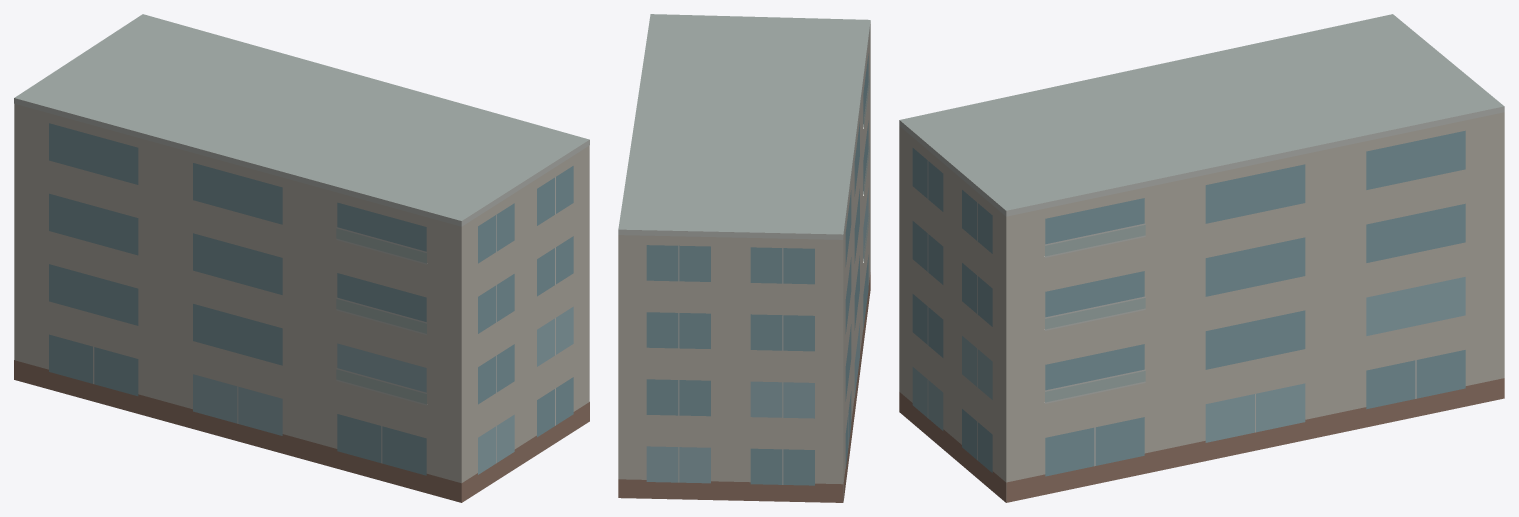
Rendered from survey-upis-32641286.glb.
The picture shows the model from 3 angles, left to right: view 1: azimuth 30°, elevation 25°; view 2: azimuth 150°, elevation 25°; view 3: azimuth 270°, elevation 25°; orthographic projection. The views are drawn at different scales.
Parts seen in each view (by area): view 1: survey-upis-32641286.tmp; view 2: survey-upis-32641286.tmp; view 3: survey-upis-32641286.tmp.
Part boxes in pixels (x1,y1,x2,y2): survey-upis-32641286.tmp: (14, 14, 589, 502); survey-upis-32641286.tmp: (618, 14, 870, 502); survey-upis-32641286.tmp: (899, 14, 1504, 502).
Bounding box in the file's own units: 17.49 × 12.1 × 22.73.
